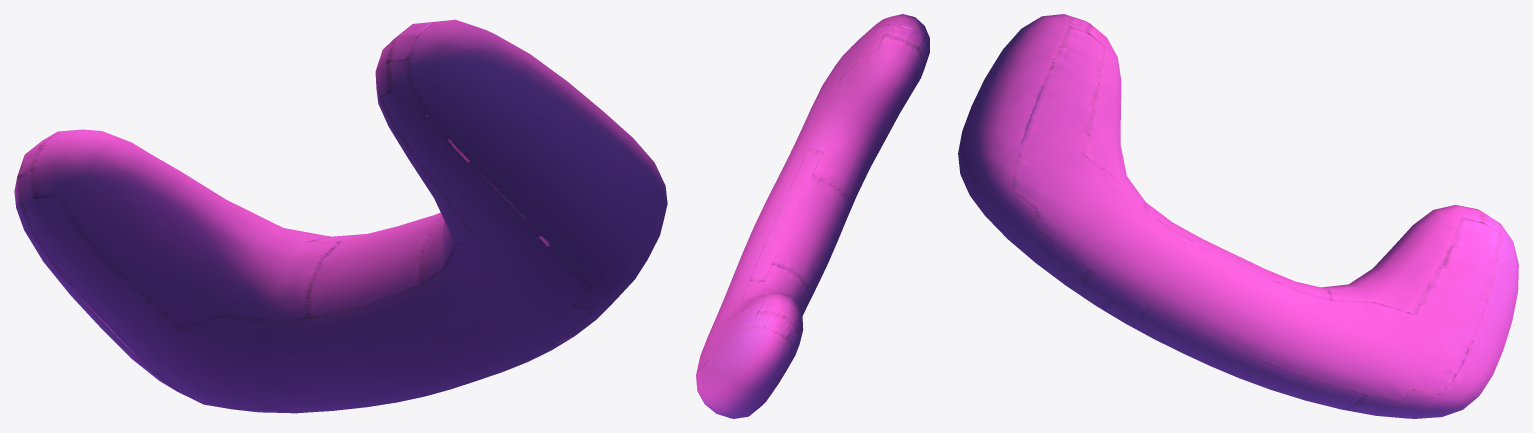
Rendered from ContactUs.glb.
3 renders of one model, left to right at view 1: azimuth 30°, elevation 25°; view 2: azimuth 150°, elevation 25°; view 3: azimuth 270°, elevation 25°, orthographic. The views are drawn at different scales.
Parts seen in each view (by area): view 1: Contact us; view 2: Contact us; view 3: Contact us.
Part boxes in pixels (x1,y1,x2,y2): Contact us: (14,19,667,413); Contact us: (696,14,929,418); Contact us: (958,14,1518,418).
Size of the model in its own units: 0.3911 by 0.7553 by 1.
Materials: 1 (1 with a texture image).
